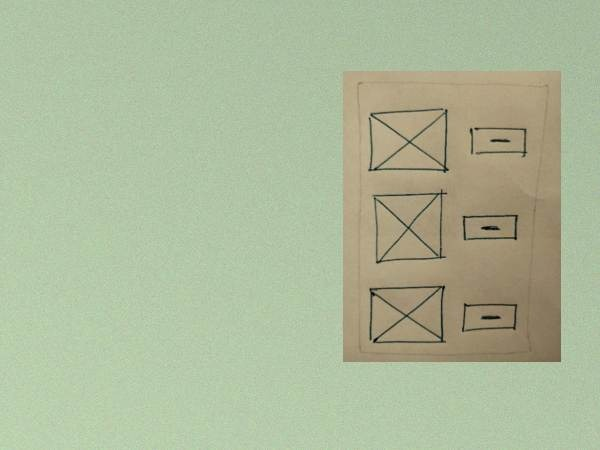button: (466, 121, 531, 162), (459, 210, 523, 248), (460, 298, 520, 336)
image: (366, 107, 453, 177), (367, 190, 448, 264), (367, 283, 448, 348)
